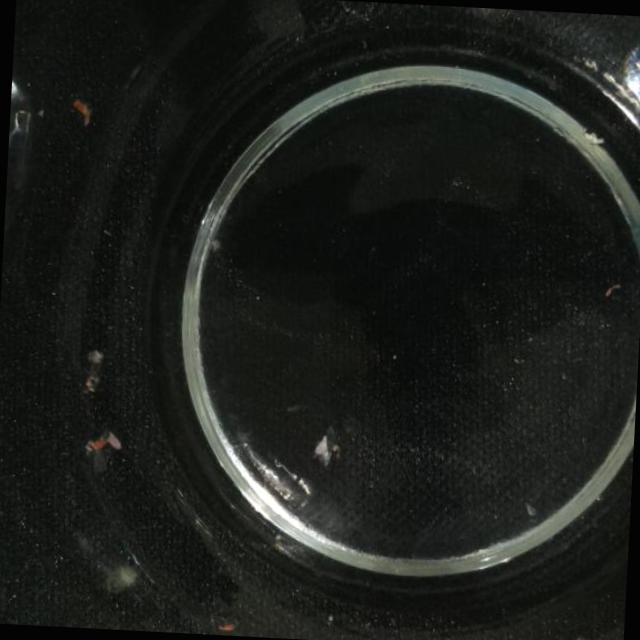fiber: (84, 416, 128, 478), (78, 326, 108, 401), (312, 432, 346, 471)
